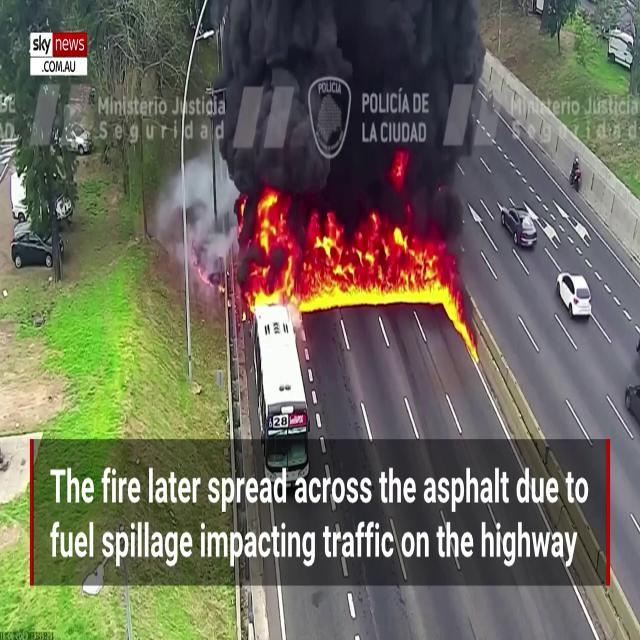Fire: (248, 204, 468, 312)
Smoke: (219, 0, 480, 237)
